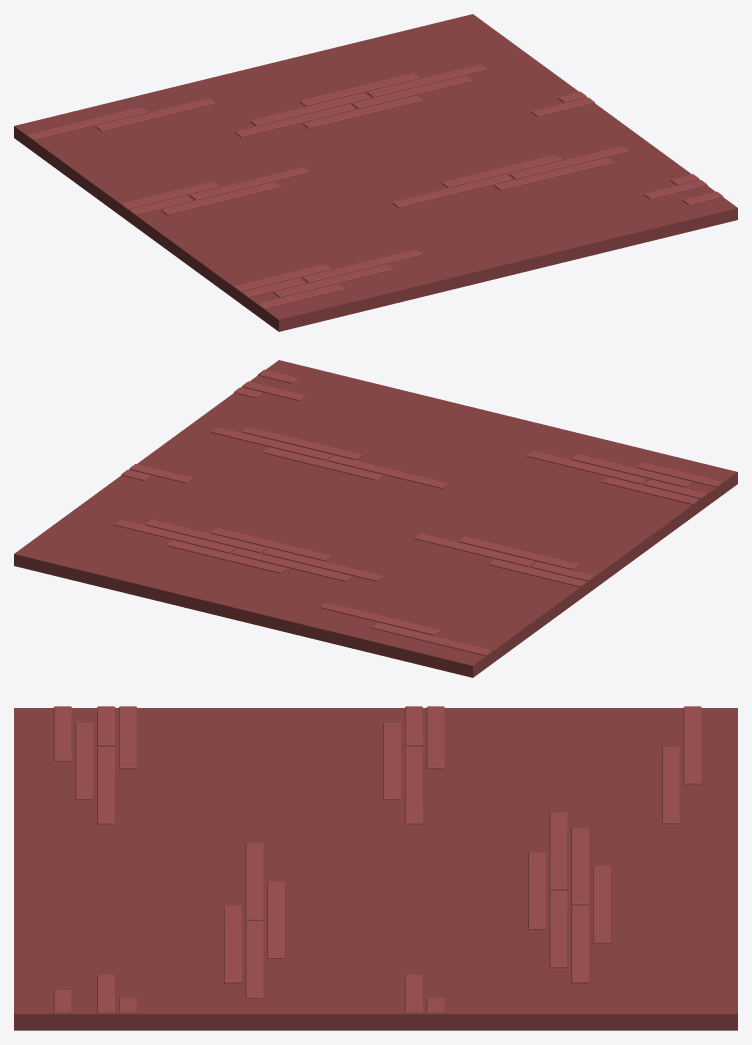
The model's file is Floor1C.fbx.
The picture shows the model from 3 angles, top to bottom: view 1: azimuth 30°, elevation 25°; view 2: azimuth 150°, elevation 25°; view 3: azimuth 270°, elevation 25°; orthographic projection. The views are drawn at different scales.
Visible parts, largest first — view 1: Floor1C; view 2: Floor1C; view 3: Floor1C.
Part boxes in pixels (bbox=[...]): Floor1C: bbox=[14, 14, 737, 331]; Floor1C: bbox=[14, 360, 737, 677]; Floor1C: bbox=[14, 706, 737, 1030].
Size of the model in its own units: 5.2 by 0.143 by 5.2.
